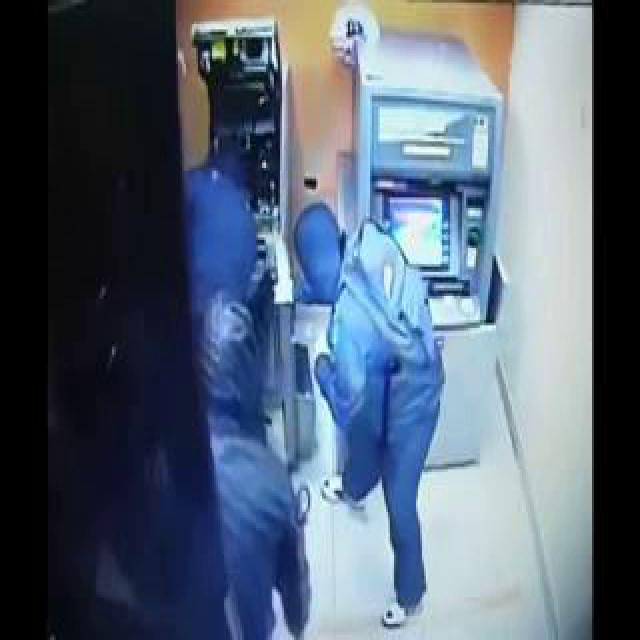burglary: (111, 14, 528, 625)
